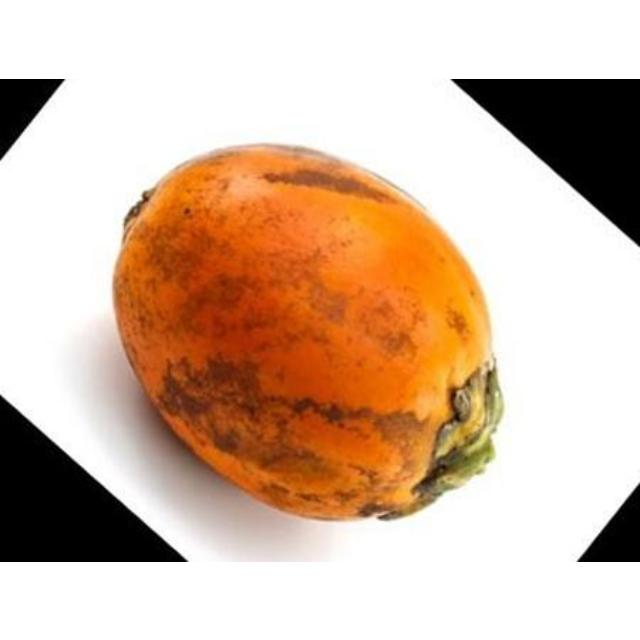good: (111, 142, 505, 522)
